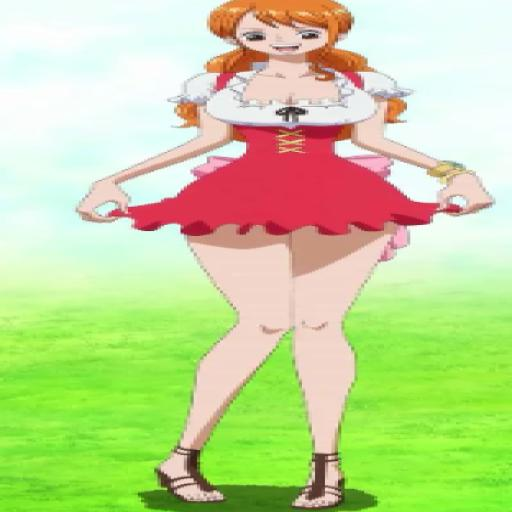Nami: (63, 3, 512, 507)
